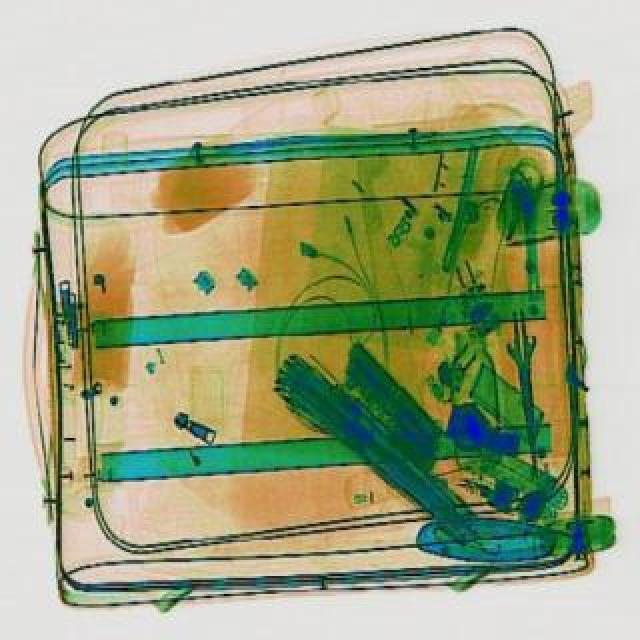knife: (498, 306, 550, 472)
